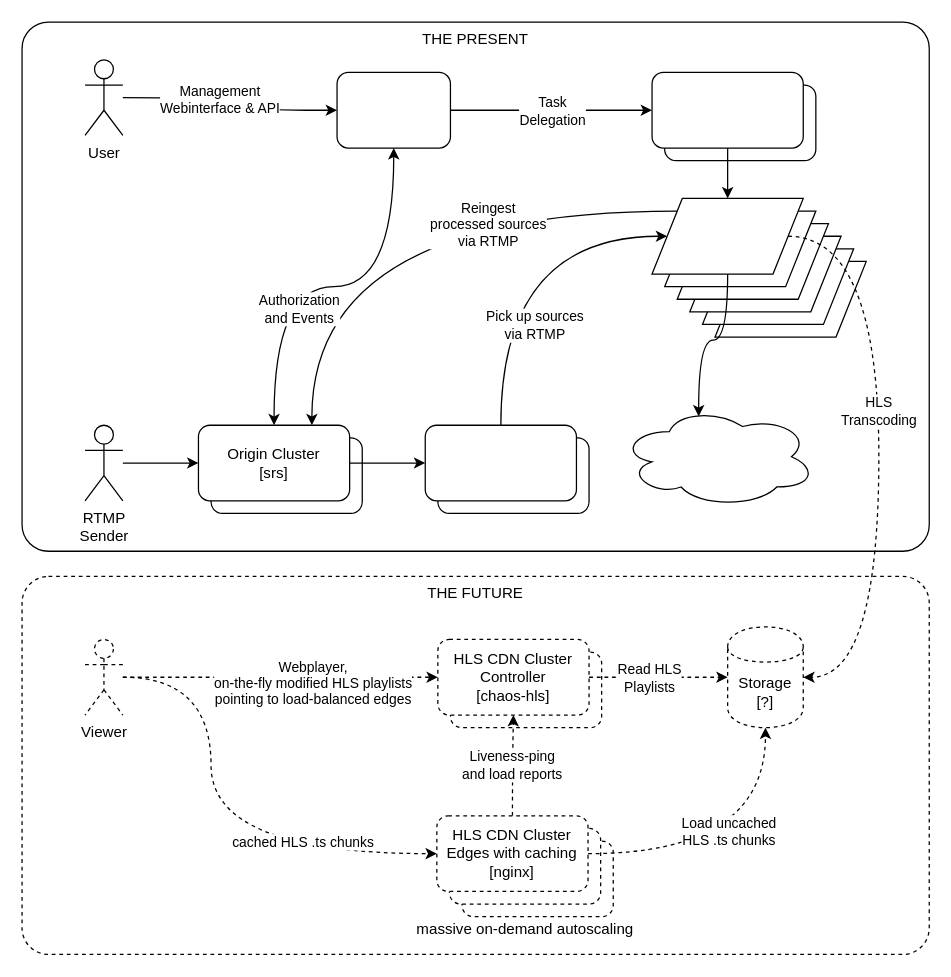
The diagram is 951 pixels wide and 977 high, and some of its shapes have lost their labels. The shapes that lost their labels are listed below. From the top down, each one's centre as x and y in pixels, then its label:
At point 393,109: "Portier [django]".
At point 727,109: "Concierge Cluster [supervisord]".
At point 727,235: "Task Execution [ffmpeg, ...]".
At point 500,462: "Edge Cluster [srs]".
At point 717,456: "External RTMP Targets".
